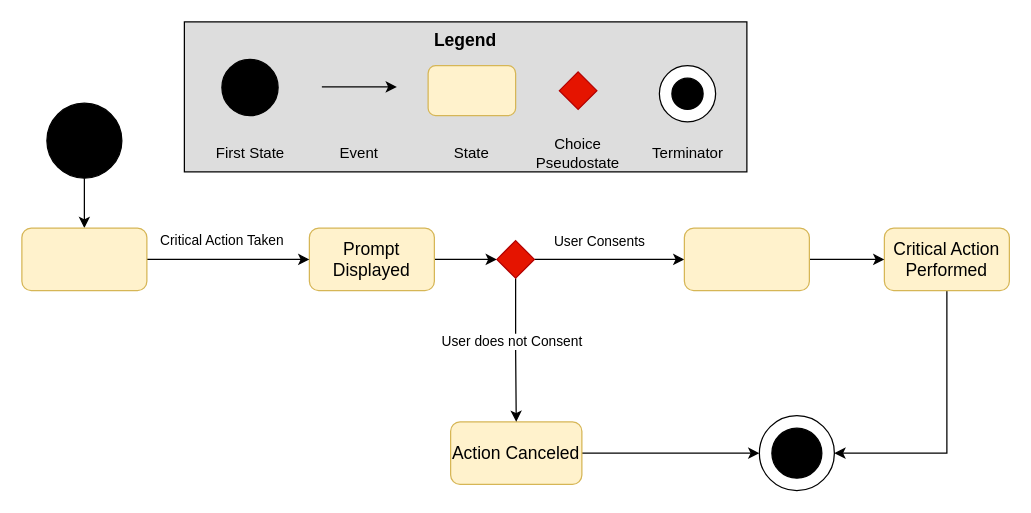
Image size: 1031x513. Some labels were removed from this diagram. The centre of each missing label's shape, as x and y in pixels:
"Action Confirmed" goes at [746,259].
"Idle" goes at [84,259].
